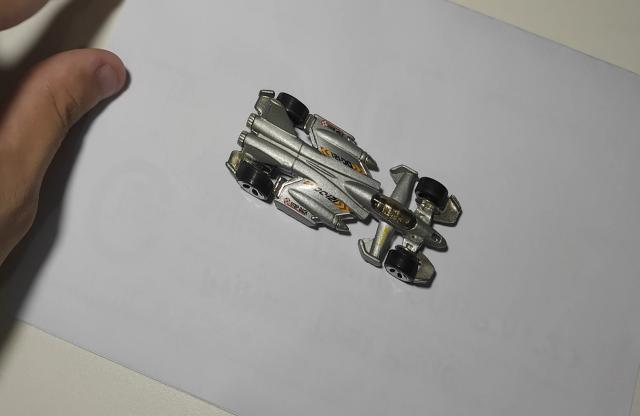05_DC121: (225, 91, 464, 290)
